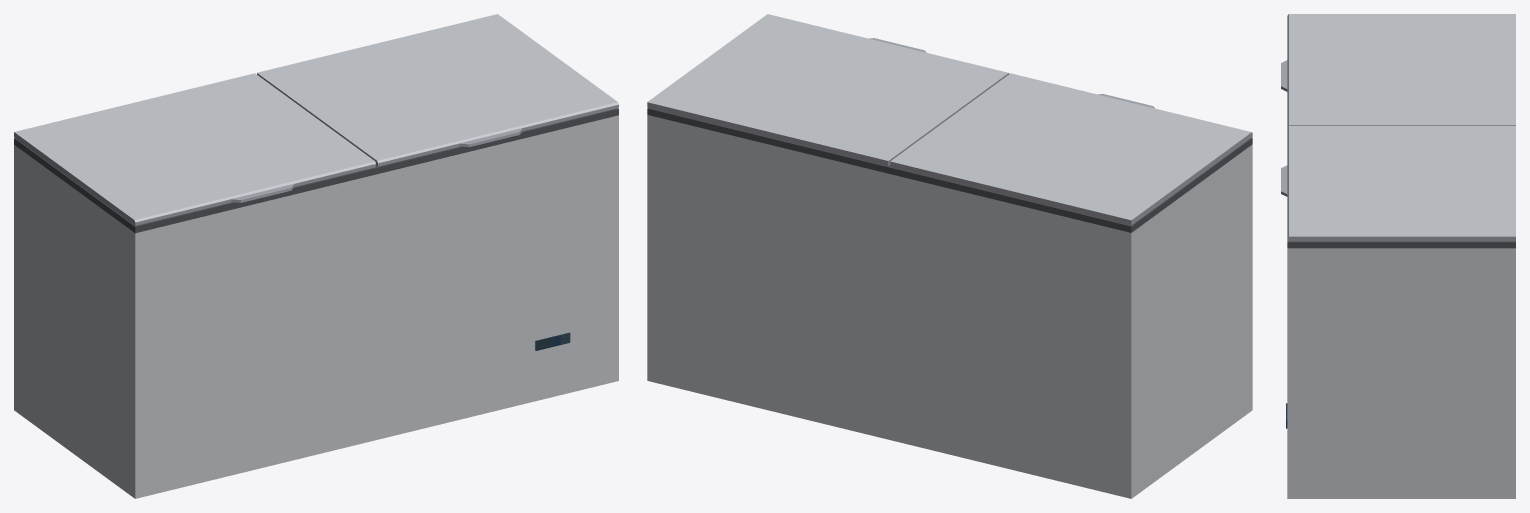
The model's file is Freezer_1.fbx.
The picture shows the model from 3 angles, left to right: view 1: azimuth 30°, elevation 25°; view 2: azimuth 150°, elevation 25°; view 3: azimuth 270°, elevation 25°; orthographic projection. The views are drawn at different scales.
Visible parts, largest first — view 1: Freezer_1, Freezer_1_Door A, Freezer_1_Door B; view 2: Freezer_1, Freezer_1_Door A, Freezer_1_Door B; view 3: Freezer_1, Freezer_1_Door B, Freezer_1_Door A.
Part boxes in pixels (x1,y1,x2,y2): Freezer_1: (14, 108, 618, 498); Freezer_1_Door A: (14, 73, 375, 225); Freezer_1_Door B: (257, 14, 618, 166); Freezer_1: (647, 107, 1252, 498); Freezer_1_Door A: (890, 73, 1252, 225); Freezer_1_Door B: (647, 14, 1009, 166); Freezer_1: (1286, 241, 1515, 498); Freezer_1_Door B: (1281, 125, 1515, 241); Freezer_1_Door A: (1281, 14, 1515, 126).
Bounding box in the file's own units: 165 × 95.02 × 73.54.
